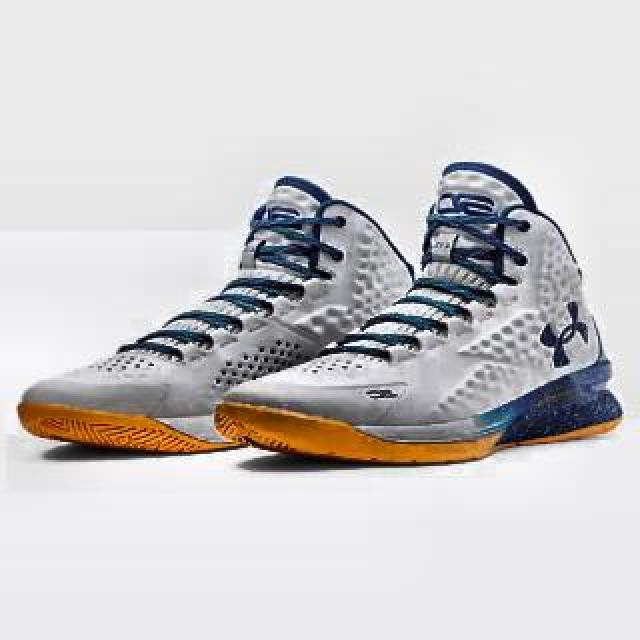shoe: (217, 160, 625, 466), (19, 175, 451, 455)
